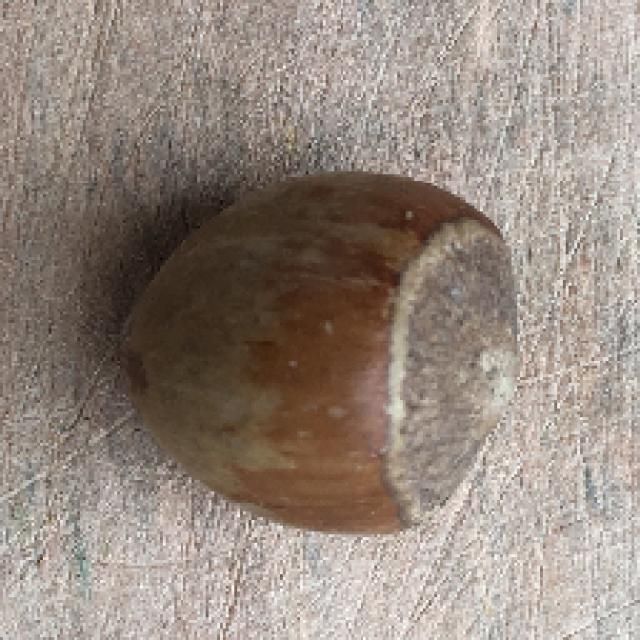DamagedHazelnut: (129, 175, 512, 531)
